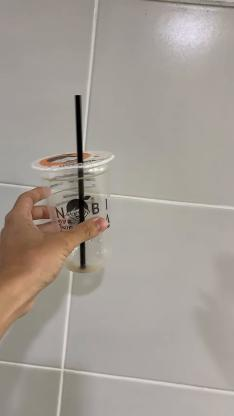Plastic Cup: (33, 151, 118, 277)
